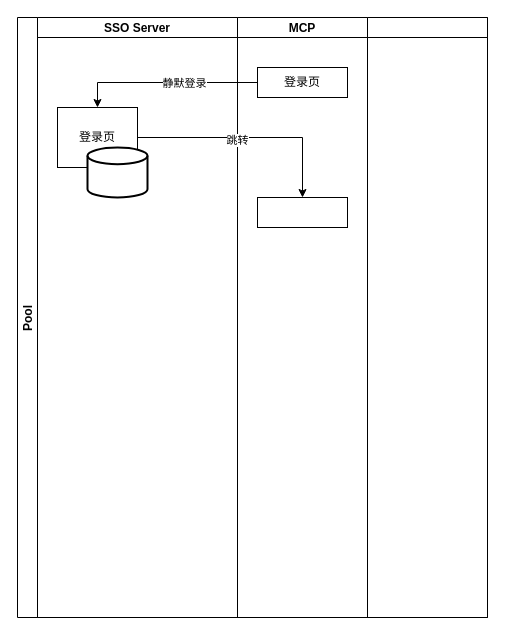
This 505x635 diagram has some shape labels left out. Each missing label, with the centre of its shape:
store: the point at 117,172
具体页面: the point at 427,317
首页（父）: the point at 302,212
